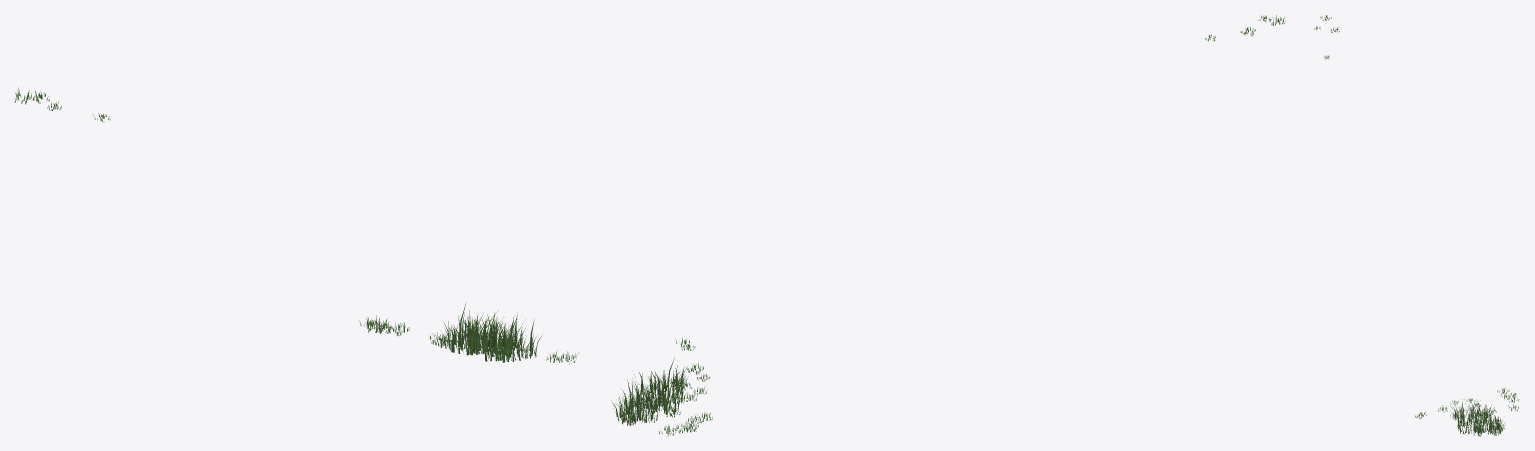
File: P2N_shore_grass_-2_-2.glb
3 renders of one model, left to right at view 1: azimuth 30°, elevation 25°; view 2: azimuth 150°, elevation 25°; view 3: azimuth 270°, elevation 25°, orthographic. The views are drawn at different scales.
Parts seen in each view (by area): view 1: P2N_shore_grass_-2_-2; view 2: P2N_shore_grass_-2_-2; view 3: P2N_shore_grass_-2_-2.
Boxes of the visible parts, bbox=[...] form: P2N_shore_grass_-2_-2: bbox=[14, 87, 578, 364]; P2N_shore_grass_-2_-2: bbox=[611, 15, 1285, 436]; P2N_shore_grass_-2_-2: bbox=[1314, 15, 1519, 436].
Size of the model in its own units: 33.16 by 25.05 by 17.81.
